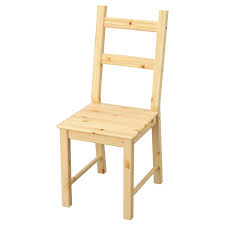tiyarina: (54, 2, 170, 220)
